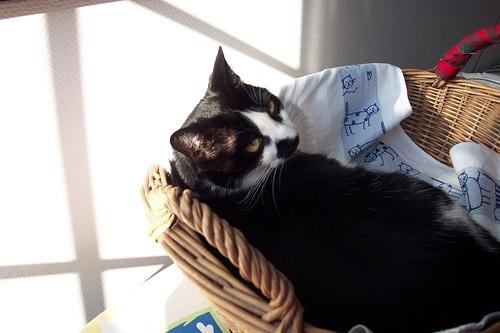cat: (170, 46, 500, 333)
